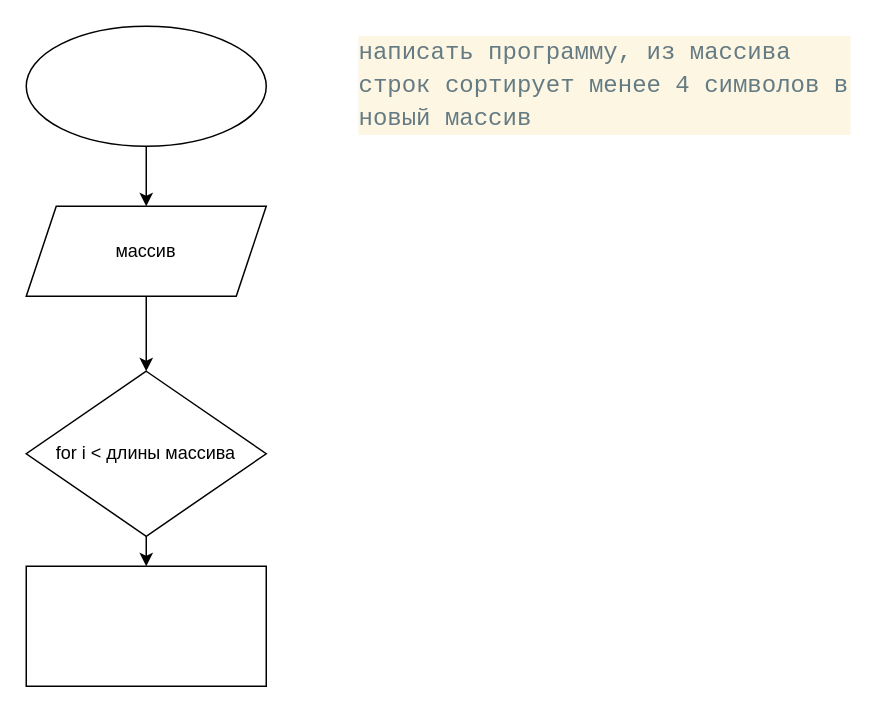
Image size: 878x713. Some labels were removed from this diagram. Each missing label, with the box of its shape:
massiv [i]: (25, 565, 266, 686)
start: (25, 25, 266, 146)
